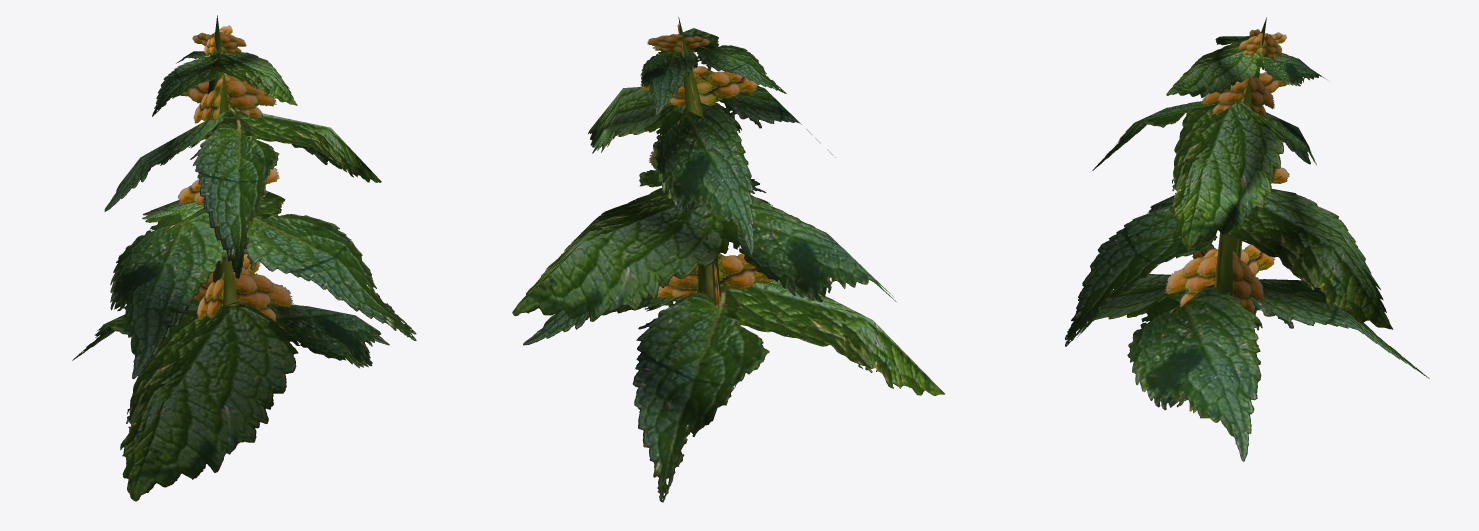
The model's file is ITPL_DEX_HERB_01.glb.
3 renders of one model, left to right at view 1: azimuth 30°, elevation 25°; view 2: azimuth 150°, elevation 25°; view 3: azimuth 270°, elevation 25°, orthographic. The views are drawn at different scales.
Parts seen in each view (by area): view 1: Mesh; view 2: Mesh; view 3: Mesh.
Part boxes in pixels (x1,y1,x2,y2): Mesh: [72, 15, 416, 501]; Mesh: [512, 17, 944, 502]; Mesh: [1065, 17, 1429, 461].
Bounding box in the file's own units: 0.3171 × 0.3123 × 0.3351.
3 materials, 3 textured.
